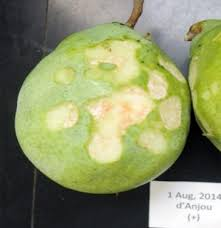damaged_apple: (12, 25, 190, 198)
